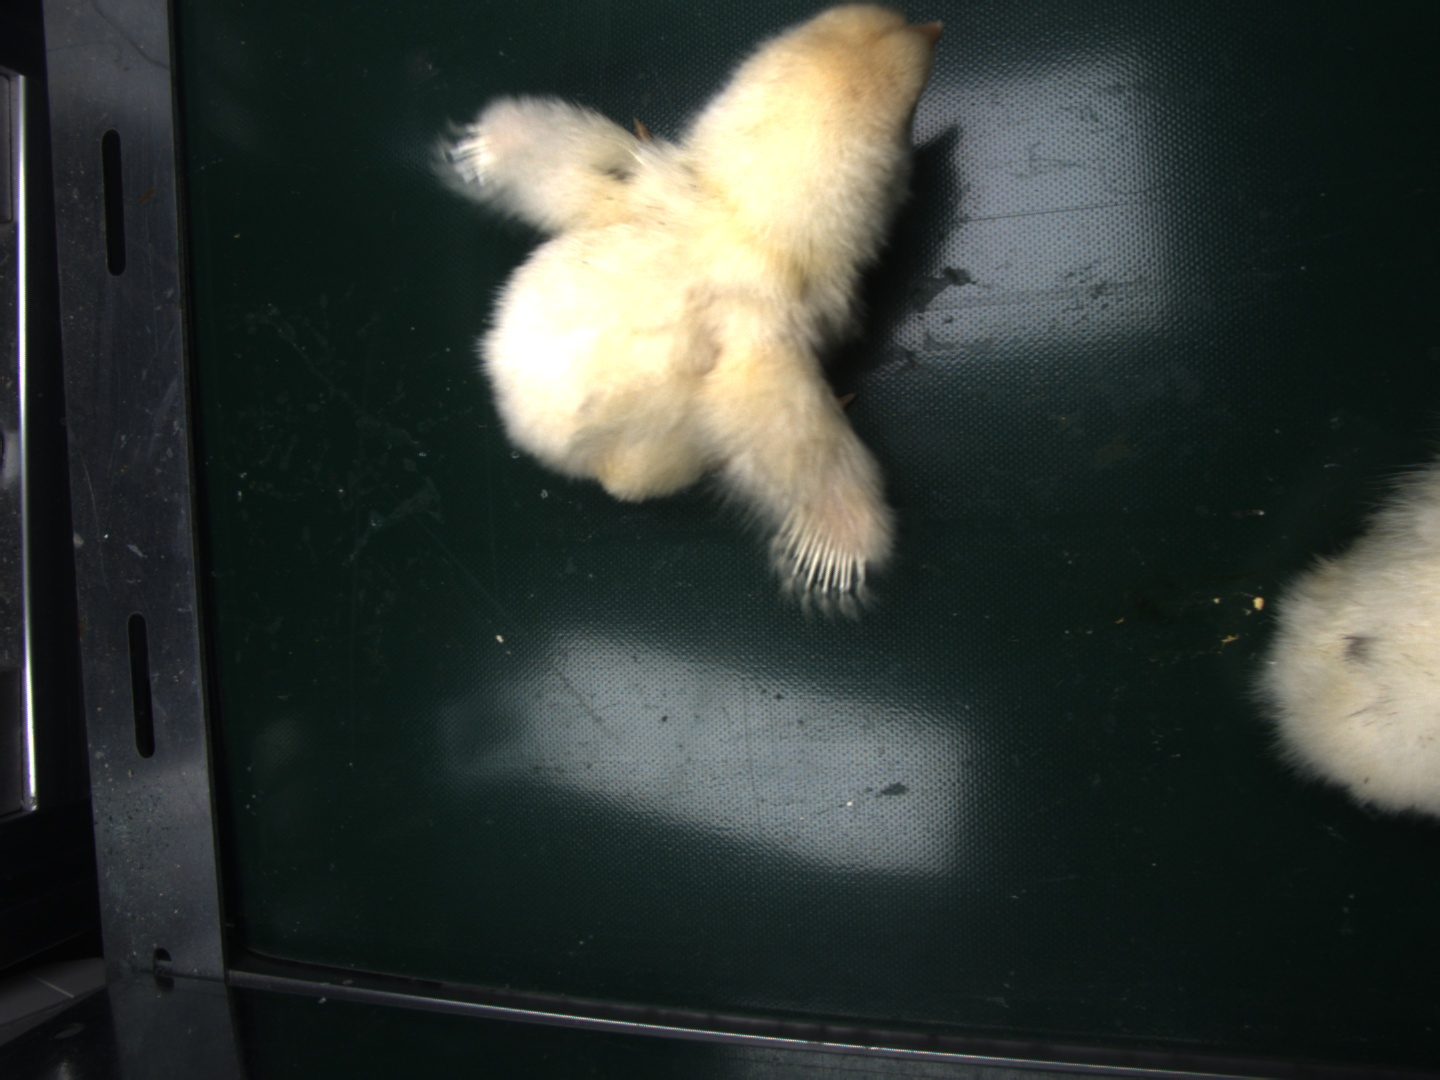male: (780, 515, 863, 593)
